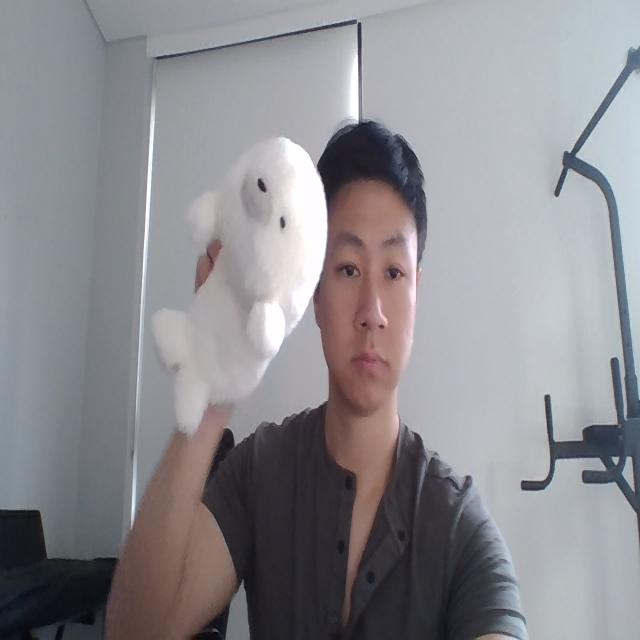seal_bb: (151, 132, 330, 437)
